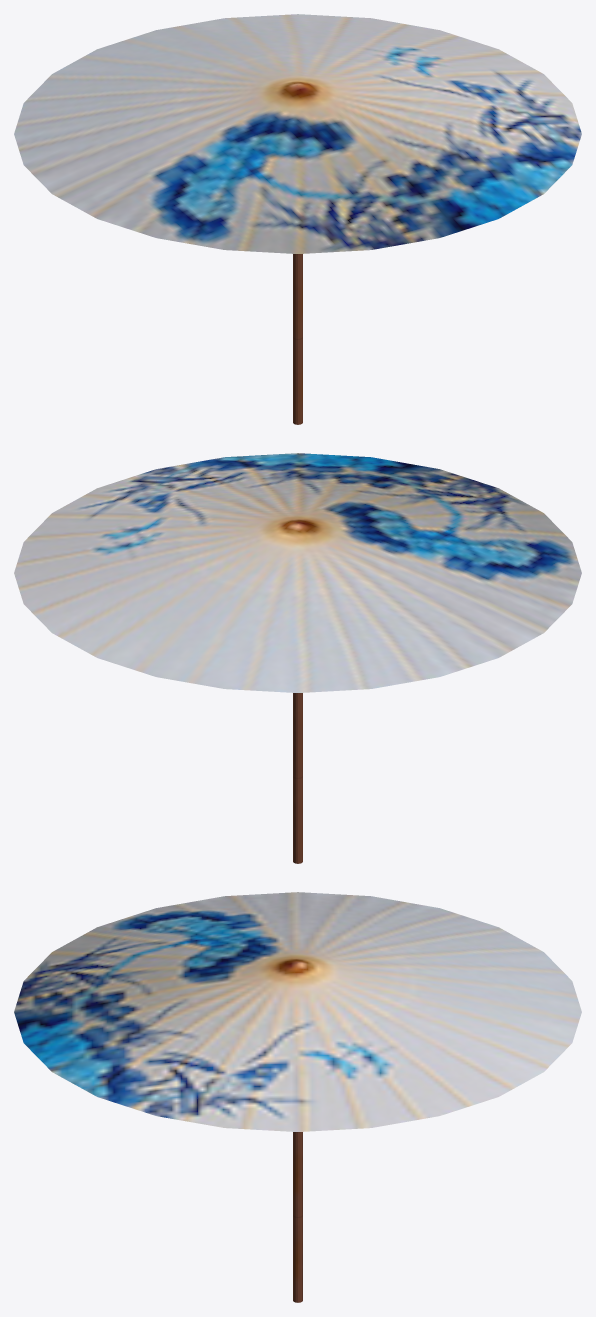
Rendered from san02.FBX.
3 views of the same model, one above another, from view 1: azimuth 30°, elevation 25°; view 2: azimuth 150°, elevation 25°; view 3: azimuth 270°, elevation 25° (orthographic).
Visible parts, largest first — view 1: san02, sanbing_02; view 2: san02, sanbing_02; view 3: san02, sanbing_02.
Part boxes in pixels (x1=…): san02: x1=14, y1=14, x2=581, y2=253; sanbing_02: x1=293, y1=254, x2=302, y2=424; san02: x1=14, y1=453, x2=581, y2=692; sanbing_02: x1=293, y1=693, x2=302, y2=863; san02: x1=14, y1=892, x2=581, y2=1131; sanbing_02: x1=293, y1=1132, x2=302, y2=1302.
Size of the model in its own units: 1.36 by 0.8896 by 1.36.
